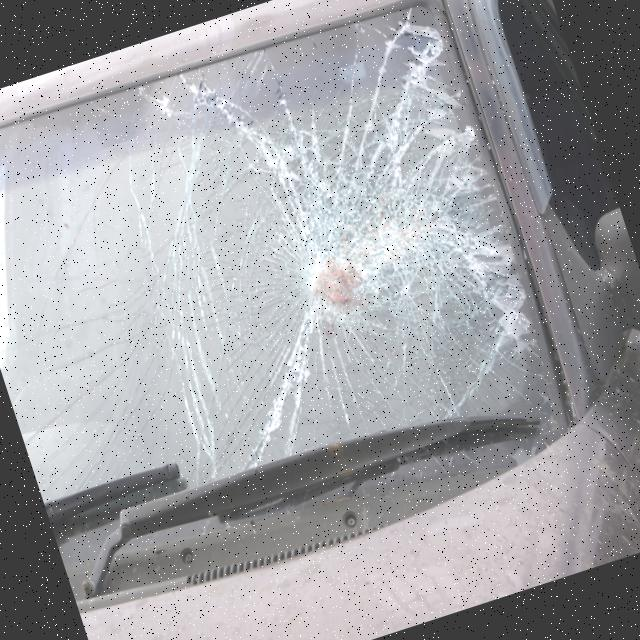Windshield: (93, 0, 562, 479)
